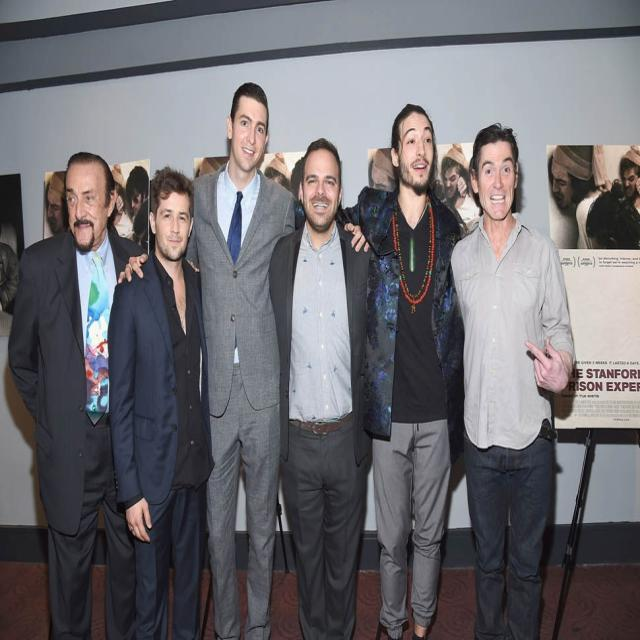body: (109, 73, 374, 639), (6, 148, 150, 640), (340, 102, 464, 639), (448, 119, 576, 639), (262, 135, 378, 639), (105, 162, 216, 639), (545, 143, 639, 253), (252, 147, 322, 227), (434, 138, 486, 233), (103, 160, 153, 256), (34, 165, 72, 241), (364, 139, 401, 200), (192, 151, 230, 191)
